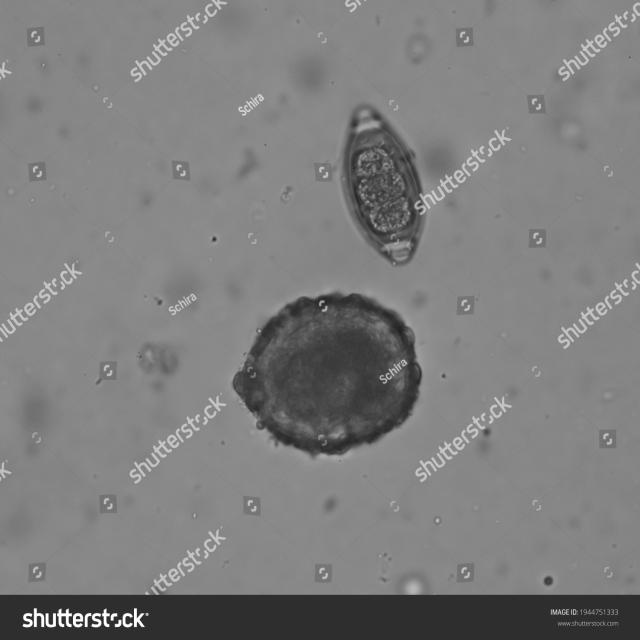Ascaris Lumbricoides: (228, 282, 434, 466)
Trichuris Trichiura: (332, 83, 430, 272)
